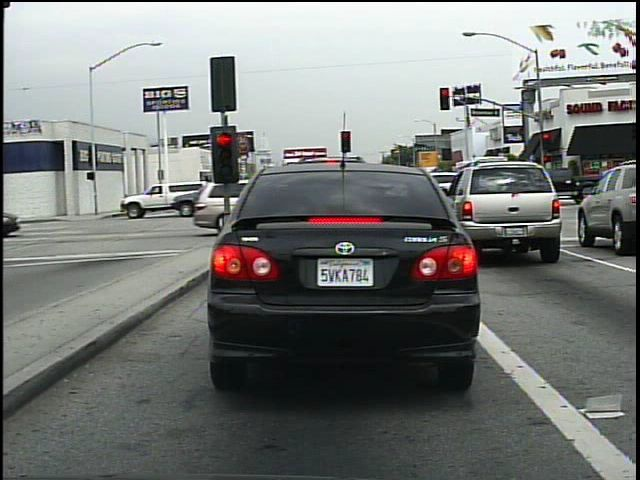person: (165, 177, 188, 216)
